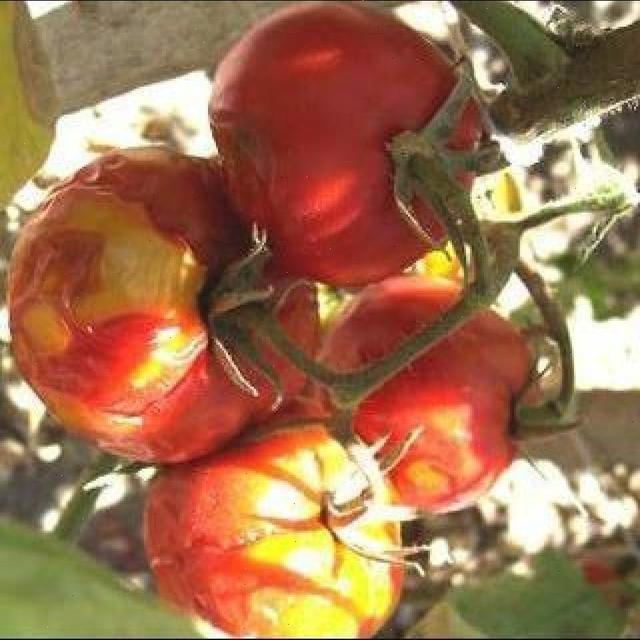Sunscald Fruit: (80, 100, 181, 376)
